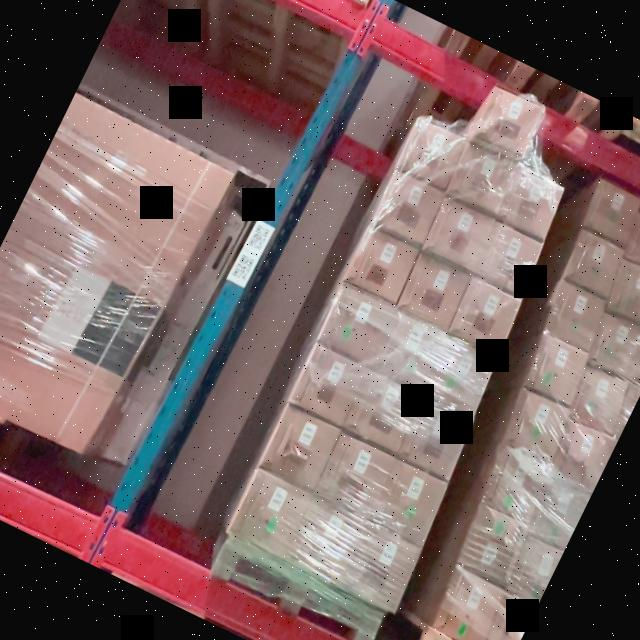box: (228, 466, 314, 555), (283, 495, 368, 582), (258, 404, 341, 489), (341, 525, 422, 609), (313, 432, 394, 516), (287, 343, 368, 426), (344, 369, 422, 450), (371, 310, 448, 391), (372, 460, 448, 541), (398, 398, 473, 478), (343, 226, 419, 304), (319, 286, 394, 364), (422, 338, 497, 415), (396, 252, 471, 328), (451, 502, 522, 580), (372, 171, 444, 245), (480, 449, 550, 525), (447, 140, 518, 213), (450, 278, 520, 352), (396, 117, 467, 188), (503, 388, 571, 462), (496, 166, 564, 238), (424, 198, 493, 268), (434, 571, 504, 640), (474, 224, 542, 294), (474, 88, 542, 156), (526, 478, 590, 549), (524, 334, 588, 403), (550, 422, 615, 489), (544, 282, 606, 348), (568, 367, 628, 434), (564, 232, 624, 296), (582, 180, 640, 242), (591, 314, 640, 376), (608, 260, 640, 324), (624, 211, 640, 271)
